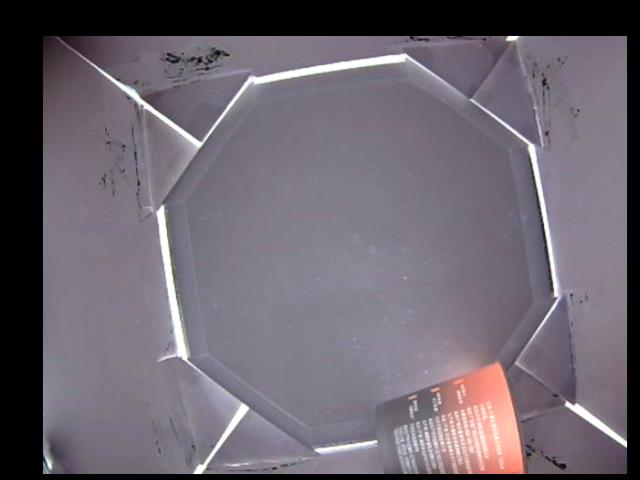Cup: (376, 360, 527, 474)
